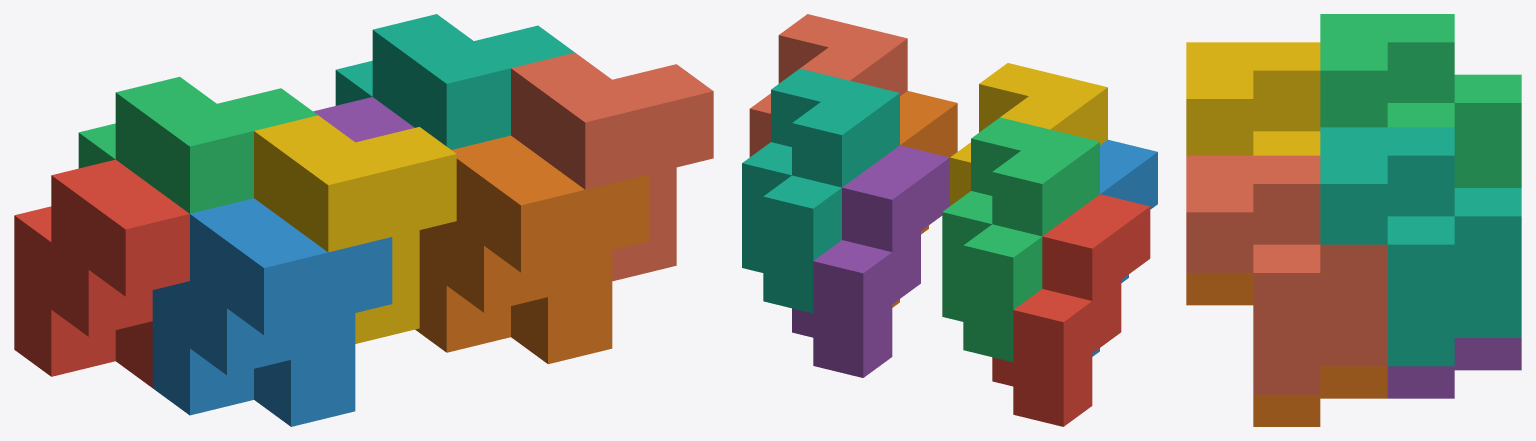
File: tiling.obj
3 renders of one model, left to right at view 1: azimuth 30°, elevation 25°; view 2: azimuth 150°, elevation 25°; view 3: azimuth 270°, elevation 25°, orthographic. The views are drawn at different scales.
Visible parts, largest first — view 1: copy_1_domain_2, copy_1_domain_6, copy_1_domain_1, copy_1_domain_8, copy_1_domain_4, copy_1_domain_3, copy_1_domain_7, copy_1_domain_5; view 2: copy_1_domain_3, copy_1_domain_7, copy_1_domain_1, copy_1_domain_5, copy_1_domain_8, copy_1_domain_4, copy_1_domain_2, copy_1_domain_6; view 3: copy_1_domain_7, copy_1_domain_8, copy_1_domain_3, copy_1_domain_4, copy_1_domain_6, copy_1_domain_5.
Part boxes in pixels (x1,y1,x2,y2): copy_1_domain_2: (152,198,392,426); copy_1_domain_6: (415,135,649,364); copy_1_domain_1: (14,159,189,387); copy_1_domain_8: (511,52,713,281); copy_1_domain_4: (254,115,456,343); copy_1_domain_3: (78,76,317,213); copy_1_domain_7: (335,14,574,149); copy_1_domain_5: (313,97,414,142); copy_1_domain_3: (942,117,1099,362); copy_1_domain_7: (742,68,899,313); copy_1_domain_1: (992,194,1150,426); copy_1_domain_5: (792,145,949,377); copy_1_domain_8: (749,14,907,157); copy_1_domain_4: (950,63,1107,205); copy_1_domain_2: (1092,139,1157,356); copy_1_domain_6: (892,91,957,307); copy_1_domain_7: (1320,127,1521,366); copy_1_domain_8: (1186,155,1387,394); copy_1_domain_3: (1320,14,1521,187); copy_1_domain_4: (1186,42,1320,155); copy_1_domain_6: (1186,273,1387,426); copy_1_domain_5: (1387,338,1521,398).
Bounding box in the file's own units: 8 × 4 × 5.
